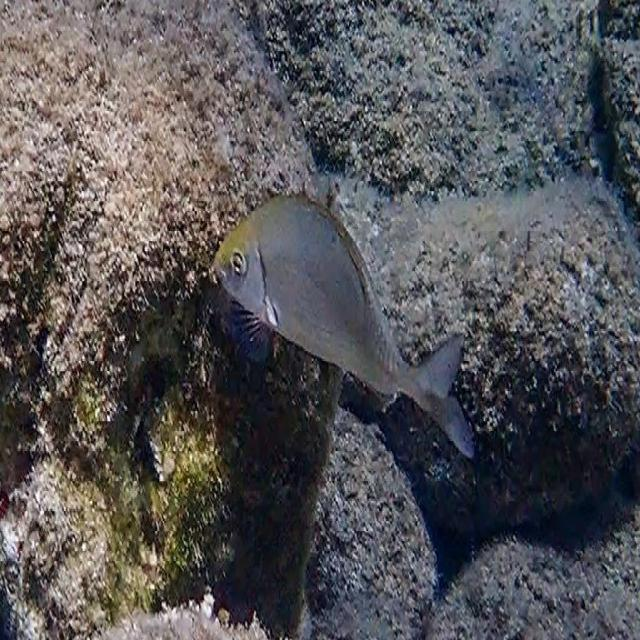Sokar Baligi: (198, 175, 486, 470)
